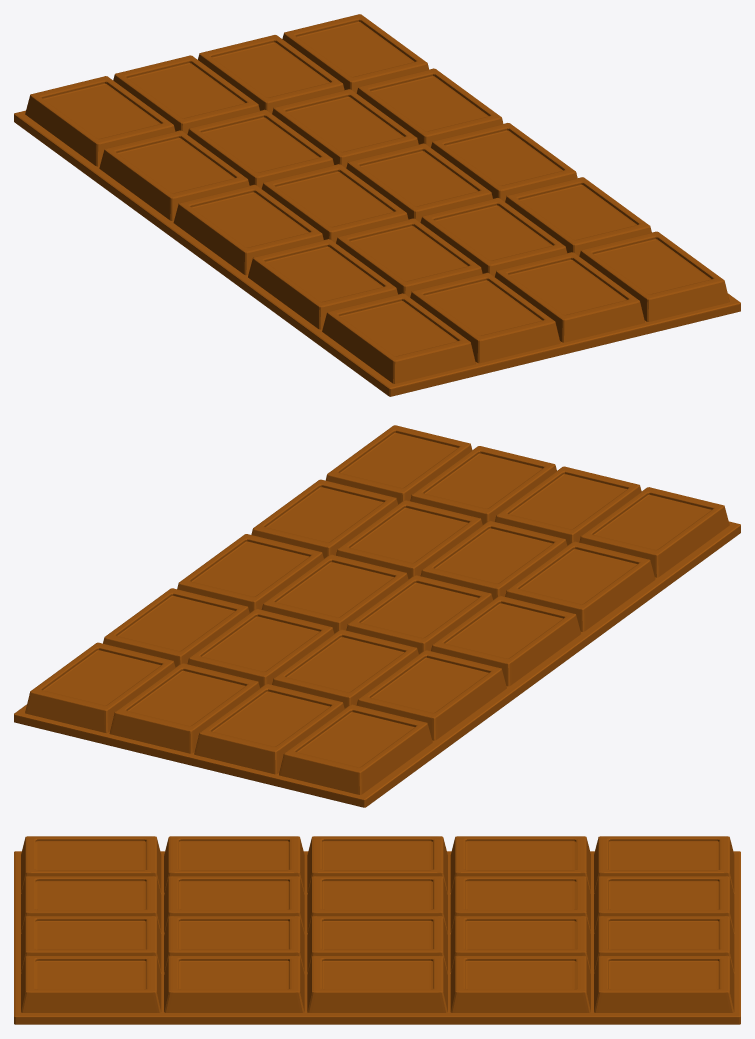
The model's file is sütlü çiiikolata.fbx.
3 views of the same model, one above another, from view 1: azimuth 30°, elevation 25°; view 2: azimuth 150°, elevation 25°; view 3: azimuth 270°, elevation 25° (orthographic). The views are drawn at different scales.
Parts seen in each view (by area): view 1: dark brown; view 2: dark brown; view 3: dark brown.
Boxes of the visible parts, x1=… form: dark brown: x1=14, y1=14, x2=740, y2=396; dark brown: x1=14, y1=425, x2=740, y2=807; dark brown: x1=14, y1=836, x2=740, y2=1024.
Size of the model in its own units: 416 by 33.09 by 771.
